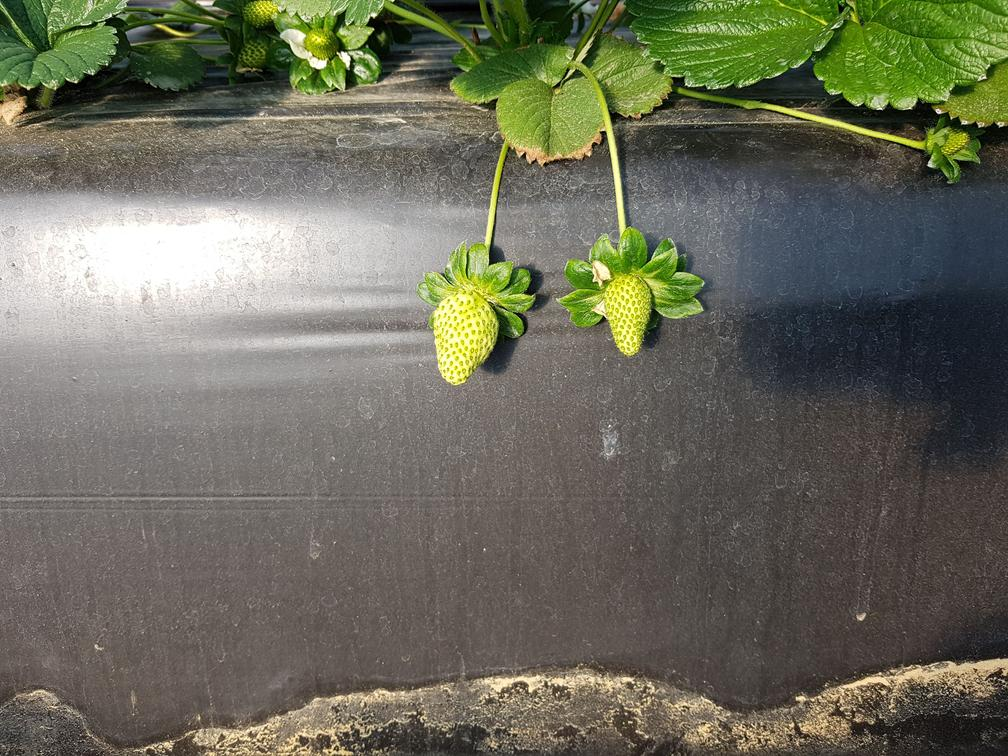Unripe: (424, 286, 506, 394), (597, 272, 661, 364)
